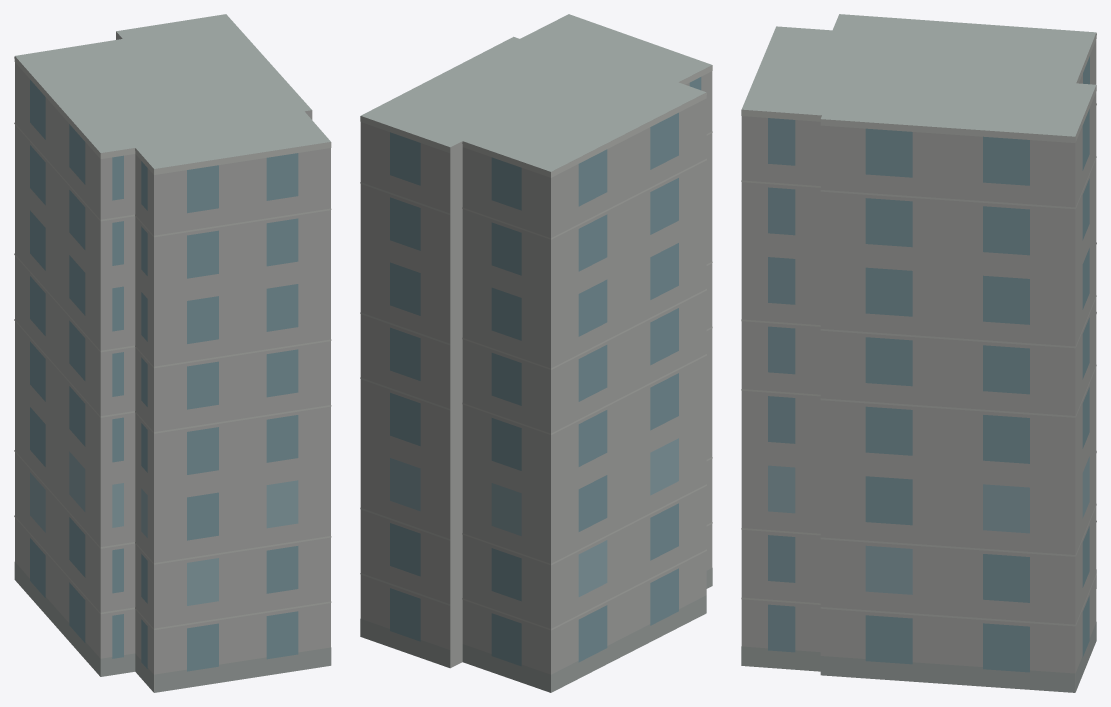
File: survey-upis-32656118.glb
3 views of the same model, side by side, from view 1: azimuth 30°, elevation 25°; view 2: azimuth 150°, elevation 25°; view 3: azimuth 270°, elevation 25° (orthographic). The views are drawn at different scales.
Parts seen in each view (by area): view 1: survey-upis-32656118.tmp; view 2: survey-upis-32656118.tmp; view 3: survey-upis-32656118.tmp.
Part boxes in pixels (<box>): survey-upis-32656118.tmp: <box>14,14,331,692</box>; survey-upis-32656118.tmp: <box>360,14,712,692</box>; survey-upis-32656118.tmp: <box>741,14,1096,692</box>.
Size of the model in its own units: 10.01 by 21.1 by 12.23.
